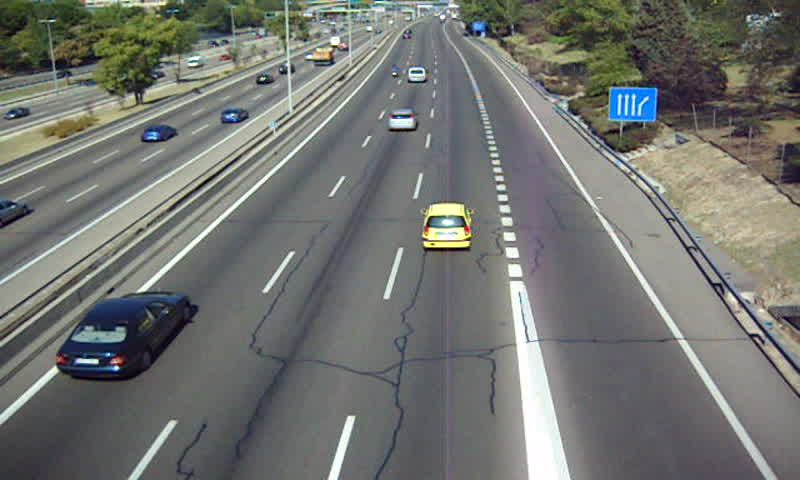car: (53, 290, 190, 380), (419, 201, 475, 250), (388, 108, 419, 132), (407, 66, 426, 84)
motorcycle: (389, 64, 399, 77)
